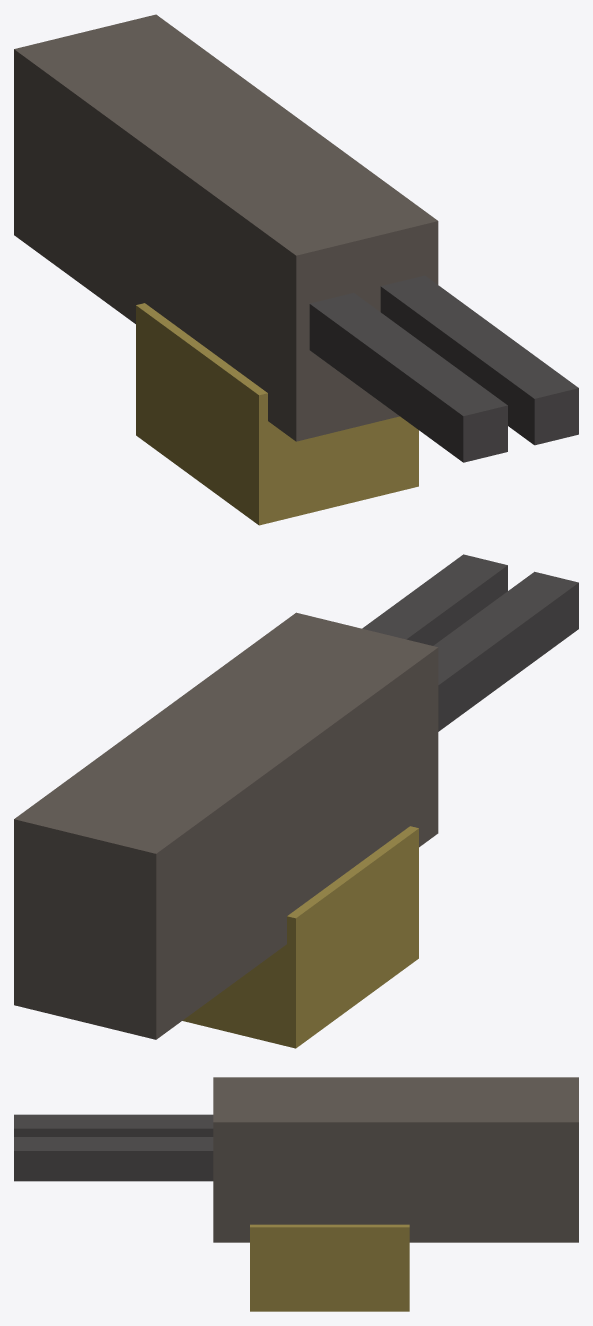
3 views of the same model, one above another, from view 1: azimuth 30°, elevation 25°; view 2: azimuth 150°, elevation 25°; view 3: azimuth 270°, elevation 25° (orthographic). The views are drawn at different scales.
Bounding box in the file's own units: 0.18 × 0.31 × 0.85.
